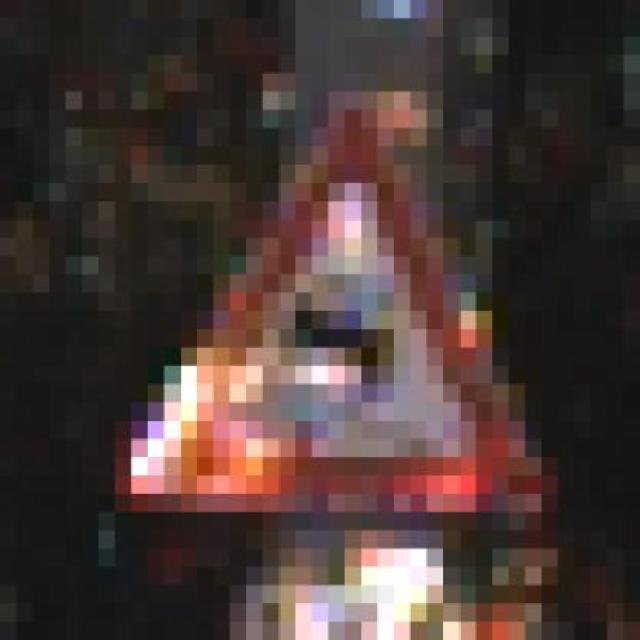Slippery Road Ahead: (98, 109, 574, 531)
